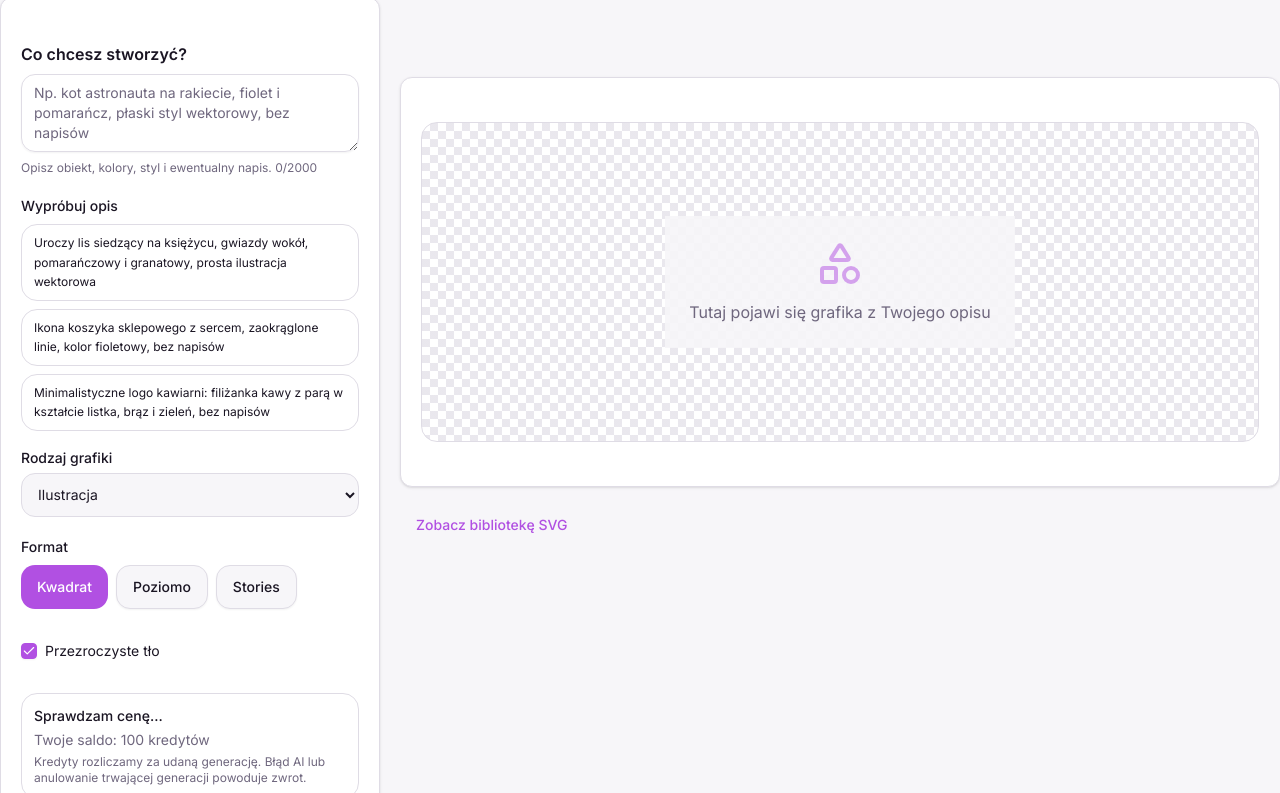
it: retries the availability check after a connection failure
The width and height of the screenshot is (1280, 793).
Replace the text in the text box labelled "Co chcesz stworzyć?" with "Ikona koszyka z sercem": x=190, y=113 [21,74,359,152]
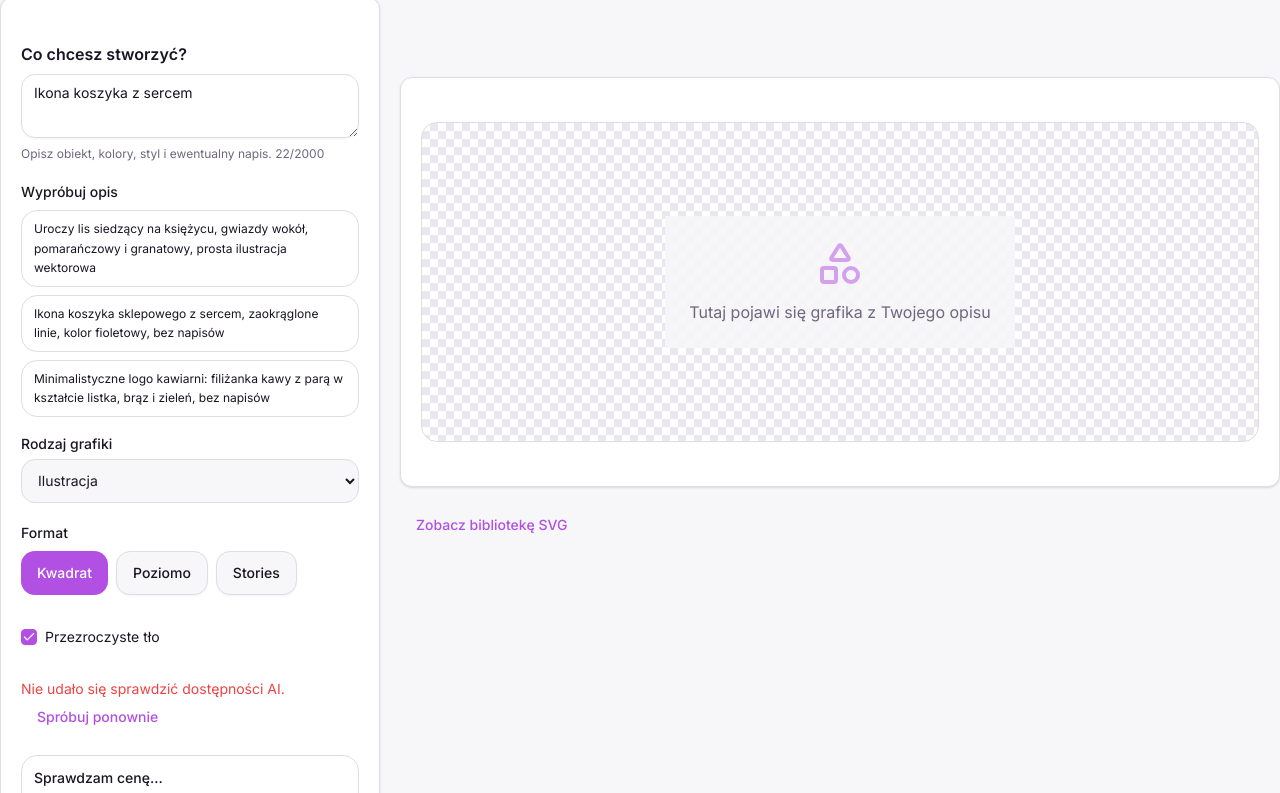
Click the button "Spróbuj ponownie": x=98, y=716 [21,698,174,734]
(page scrolled)
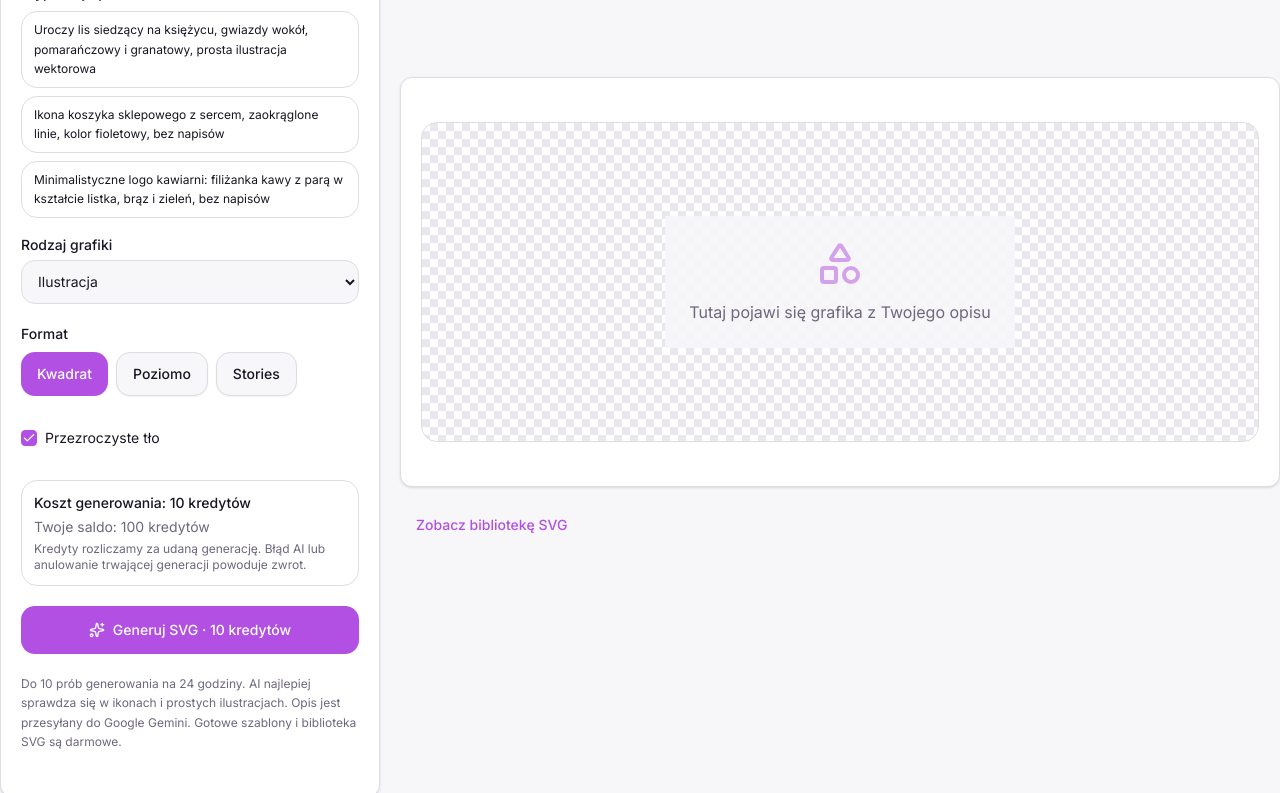
Check: the button "Generuj SVG · 10 kredytów" is enabled, box [21,606,359,654]
